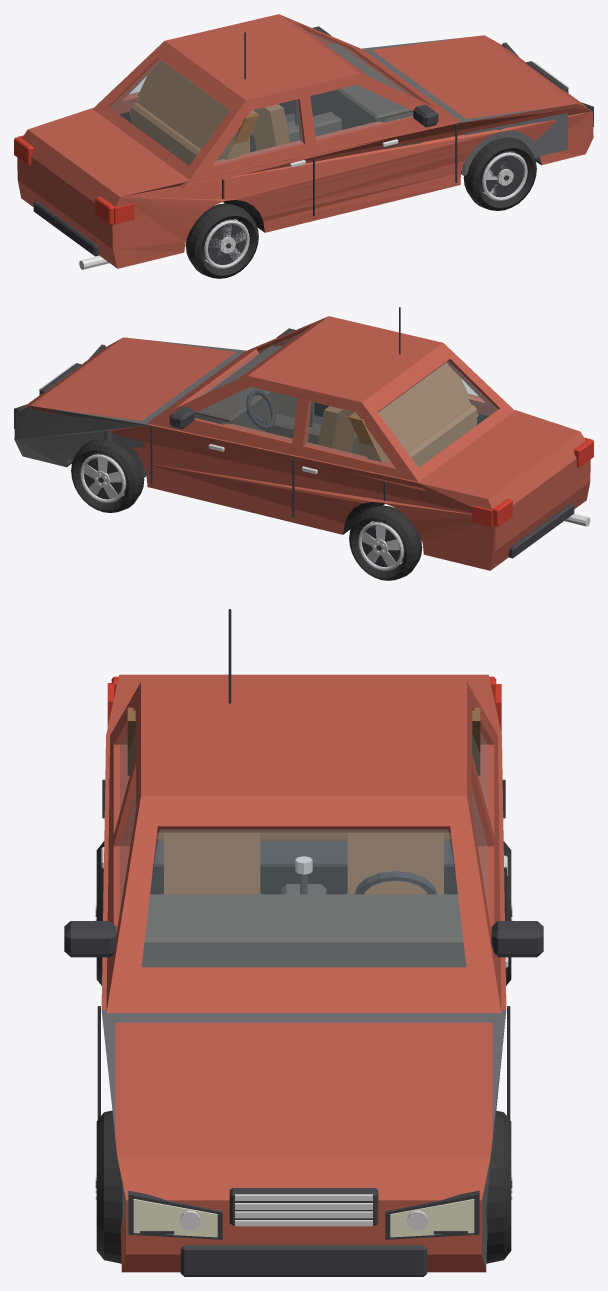
The model's file is torolla.glb.
3 views of the same model, one above another, from view 1: azimuth 30°, elevation 25°; view 2: azimuth 150°, elevation 25°; view 3: azimuth 270°, elevation 25° (orthographic). The views are drawn at different scales.
Parts seen in each view (by area): view 1: Body.003, Glass.003, Hood.003, Seat.003, Tire.003, Dark.003, Dash.003, Bay.003, Rim.003, Tail.003, Well.003, Chrome.003; view 2: Body.003, Glass.003, Hood.003, Seat.003, Bay.003, Tire.003, Dark.003, Dash.003, Rim.003, Tail.003, Well.003, Chrome.003; view 3: Body.003, Hood.003, Glass.003, Dash.003, Dark.003, Seat.003, Tire.003, Bay.003, Chrome.003, Headlight.003, Well.003.
Part boxes in pixels (x1,y1,x2,y2): Body.003: (17, 14, 593, 268); Glass.003: (110, 32, 416, 164); Hood.003: (372, 35, 574, 118); Seat.003: (129, 60, 290, 165); Tire.003: (185, 137, 536, 278); Dark.003: (33, 26, 593, 265); Dash.003: (250, 43, 421, 152); Bay.003: (362, 37, 574, 175); Rim.003: (204, 152, 527, 268); Tail.003: (14, 135, 134, 224); Well.003: (119, 100, 541, 232); Chrome.003: (79, 61, 568, 269); Body.003: (18, 316, 590, 570); Glass.003: (191, 334, 497, 466); Hood.003: (33, 337, 235, 420); Seat.003: (317, 362, 478, 467); Bay.003: (14, 339, 245, 477); Tire.003: (71, 439, 422, 580); Dark.003: (14, 307, 574, 567); Dash.003: (194, 345, 357, 454); Rim.003: (80, 454, 403, 570); Tail.003: (472, 437, 593, 526); Well.003: (66, 402, 488, 534); Chrome.003: (39, 363, 590, 553); Body.003: (101, 674, 506, 1272); Hood.003: (115, 1022, 492, 1152); Glass.003: (120, 733, 487, 966); Dash.003: (141, 884, 466, 967); Dark.003: (64, 609, 543, 1276); Seat.003: (127, 707, 480, 894); Tire.003: (96, 841, 511, 1263); Bay.003: (101, 1010, 506, 1271); Chrome.003: (95, 847, 512, 1230); Headlight.003: (133, 1199, 474, 1237); Well.003: (150, 867, 457, 894).
Size of the model in its own units: 4.69 by 1.9 by 1.94.
